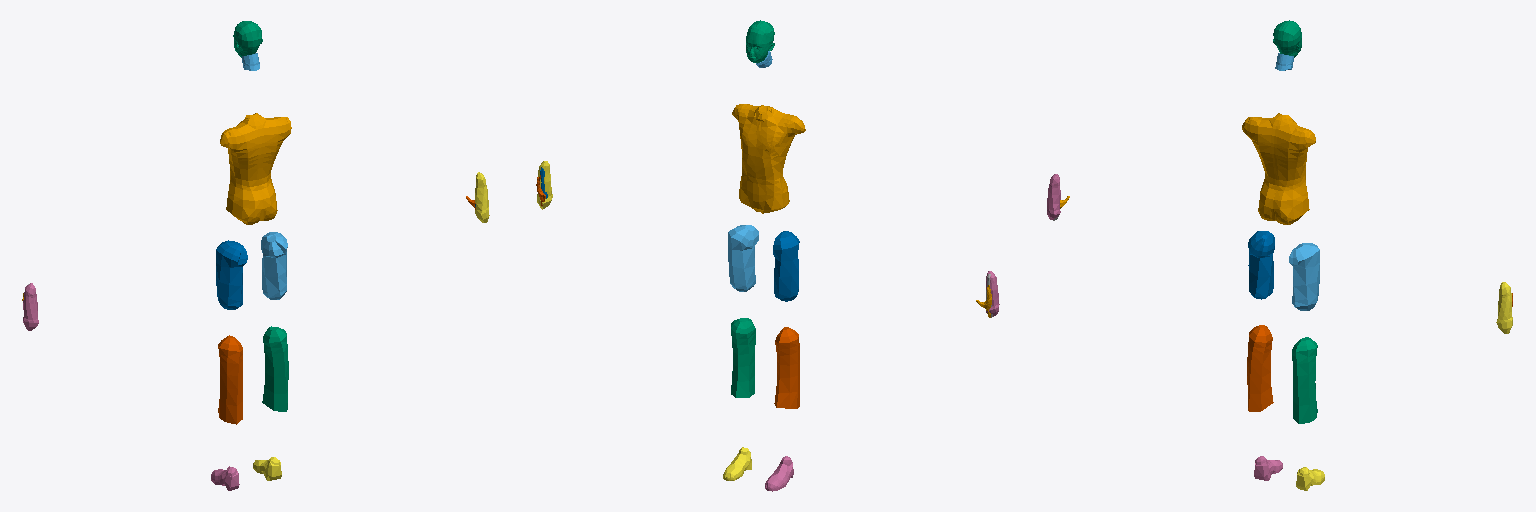
URDF robot description (Human):
<?xml version="1.0"?>
<robot name="Human">
  <!-- <^^^^^^^^^^^^> -->
  <!-- <   Links    > -->
  <!-- <vvvvvvvvvvvv> -->
  <link name="Body" >
    <visual>
      <geometry>
        <mesh filename="package://tms_ss_kinect_v2/model/male/Body.dae"/>
      </geometry>
      <!--<origin xyz="0 0 1.1" rpy="0 0 0" />-->
    </visual>
  </link>

  <link name="Neck" >
    <visual>
      <geometry>
        <mesh filename="package://tms_ss_kinect_v2/model/male/Neck.dae"/>
      </geometry>
    </visual>
  </link>

  <link name="Head" >
    <visual>
      <geometry>
        <mesh filename="package://tms_ss_kinect_v2/model/male/Head.dae"/>
      </geometry>
    </visual>
  </link>

  <link name="RightArm1" >
    <visual>
      <geometry>
        <mesh filename="package://tms_ss_kinect_v2/model/male/RightArm1.dae"/>
      </geometry>
    </visual>
  </link>

  <link name="RightArm2" >
    <visual>
      <geometry>
        <mesh filename="package://tms_ss_kinect_v2/model/male/RightArm2.dae"/>
      </geometry>
    </visual>
  </link>

  <link name="RightHand1" >
    <visual>
      <geometry>
        <mesh filename="package://tms_ss_kinect_v2/model/male/RightHand1.dae"/>
      </geometry>
    </visual>
  </link>

  <link name="LeftArm1" >
    <visual>
      <geometry>
        <mesh filename="package://tms_ss_kinect_v2/model/male/LeftArm1.dae"/>
      </geometry>
    </visual>
  </link>

  <link name="LeftArm2" >
    <visual>
      <geometry>
        <mesh filename="package://tms_ss_kinect_v2/model/male/LeftArm2.dae"/>
      </geometry>
    </visual>
  </link>

  <link name="LeftHand1" >
    <visual>
      <geometry>
        <mesh filename="package://tms_ss_kinect_v2/model/male/LeftHand1.dae"/>
      </geometry>
    </visual>
  </link>

  <link name="RightLeg1" >
    <visual>
      <geometry>
        <mesh filename="package://tms_ss_kinect_v2/model/male/RightLeg1.dae"/>
      </geometry>
    </visual>
  </link>

  <link name="RightLeg2" >
    <visual>
      <geometry>
        <mesh filename="package://tms_ss_kinect_v2/model/male/RightLeg2.dae"/>
      </geometry>
    </visual>
  </link>

  <link name="RightFoot" >
    <visual>
      <geometry>
        <mesh filename="package://tms_ss_kinect_v2/model/male/RightFoot.dae"/>
      </geometry>
    </visual>
  </link>

  <link name="LeftLeg1" >
    <visual>
      <geometry>
        <mesh filename="package://tms_ss_kinect_v2/model/male/LeftLeg1.dae"/>
      </geometry>
    </visual>
  </link>

  <link name="LeftLeg2" >
    <visual>
      <geometry>
        <mesh filename="package://tms_ss_kinect_v2/model/male/LeftLeg2.dae"/>
      </geometry>
    </visual>
  </link>

  <link name="LeftFoot" >
    <visual>
      <geometry>
        <mesh filename="package://tms_ss_kinect_v2/model/male/LeftFoot.dae"/>
      </geometry>
    </visual>
  </link>


  <!-- <^^^^^^^^^^^^^^^^^^^^^^^^^^^^^^^^^^^^^^^^> -->
  <!-- <   Virtual Links for multi DoF joints   > -->
  <!-- <vvvvvvvvvvvvvvvvvvvvvvvvvvvvvvvvvvvvvvvv> -->
  <link name="RightShoulderVirtual1"/>
  <link name="RightShoulderVirtual2"/>
  <link name="RightElbowVirtual"/>
  <link name="LeftShoulderVirtual1"/>
  <link name="LeftShoulderVirtual2"/>
  <link name="LeftElbowVirtual"/>
  <link name="RightHipVirtual1"/>
  <link name="RightHipVirtual2"/>
  <link name="RightKneeVirtual"/>
  <link name="LeftHipVirtual1"/>
  <link name="LeftHipVirtual2"/>
  <link name="LeftKneeVirtual"/>
  <link name="RightWristVirtual"/>
  <link name="LeftWristVirtual"/>
  <link name="NeckVirtual"/>


  <!-- <^^^^^^^^^^^^> -->
  <!-- <   Joints   > -->
  <!-- <vvvvvvvvvvvvv -->
  <!--
  <joint name="WAIST_JOINT1" type="continuous">
    <parent link="Neck"/>
    <child link="Head"/>
    <origin xyz="0 0 0" rpy="0 0 0"/>
    <axis xyz="0 1 0"/>
  </joint>

  <joint name="WAIST_JOINT2" type="continuous">
    <parent link="Neck"/>
    <child link="Head"/>
    <origin xyz="0 0 0" rpy="0 0 0"/>
    <axis xyz="0 1 0"/>
  </joint>
  -->

  <!-- Right Shoulder -->
  <joint name="R_ARM_JOINT1" type="continuous">
    <axis xyz="-1.0 0.0 0.0"/>
    <origin xyz="0.185 0 0.29" rpy="0 0 0" />
    <parent link="Body"/>
    <child link="RightShoulderVirtual1"/>
  </joint>

  <joint name="R_ARM_JOINT2" type="continuous">
    <axis xyz="0.0 1.0 0.0"/>
    <origin xyz="0.0 0.0 0.0" rpy="0 1.57079632679 0" />
    <parent link="RightShoulderVirtual1"/>
    <child link="RightShoulderVirtual2"/>
  </joint>

  <joint name="R_ARM_JOINT3" type="continuous">
    <axis xyz="-1.0 0.0 0.0"/>
    <!--<origin xyz="0.0 0.0 0.0" rpy="-1.57079632679 0 0" />-->
    <parent link="RightShoulderVirtual2"/>
    <child link="RightArm1"/>
  </joint>

  <!-- Right Elbow -->
  <joint name="R_ARM_JOINT4" type="continuous">
    <axis xyz="0.0 0.0 -1.0"/>
    <origin xyz="0.215 0 0" rpy="0 0 0.0" />
    <parent link="RightArm1"/>
    <child link="RightElbowVirtual"/>
  </joint>

  <joint name="R_ARM_JOINT5" type="continuous">
    <parent link="RightElbowVirtual"/>
    <child link="RightArm2"/>
  </joint>

  <!-- Right Wrist -->
  <joint name="R_ARM_JOINT6" type="continuous">
    <origin xyz="0.22 0 0" rpy="0 0 0" />
    <parent link="RightArm2"/>
    <child link="RightWristVirtual"/>
  </joint>

  <joint name="R_ARM_JOINT7" type="continuous">
    <parent link="RightWristVirtual"/>
    <child link="RightHand1"/>
  </joint>

  <!--
  <joint name="R_ARM_JOINT8" type="continuous">
    <parent link="RightWristVirtual"/>
    <child link="RightHand1"/>
  </joint>
  -->

  <!-- Left Shoulder -->
  <joint name="L_ARM_JOINT1" type="continuous">
    <axis xyz="-1.0 0.0 0.0"/>
    <origin xyz="-0.185 0 0.29" rpy="0.0 0.0 0.0" />
    <parent link="Body"/>
    <child link="LeftShoulderVirtual1"/>
  </joint>

  <joint name="L_ARM_JOINT2" type="continuous">
    <axis xyz="0.0 1.0 0.0"/>
    <origin xyz="0.0 0.0 0.0" rpy="0 4.71238898038 0" />
    <parent link="LeftShoulderVirtual1"/>
    <child link="LeftShoulderVirtual2"/>
  </joint>

  <joint name="L_ARM_JOINT3" type="continuous">
    <axis xyz="1.0 0.0 0.0"/>
    <!--<origin xyz="0.0 0.0 0.0" rpy="-1.57079632679 0 0" />-->
    <parent link="LeftShoulderVirtual2"/>
    <child link="LeftArm1"/>
  </joint>

  <!-- Left Elbow -->
  <joint name="L_ARM_JOINT4" type="continuous">
    <axis xyz="0.0 0.0 1.0"/>
    <origin xyz="-0.215 0 0" rpy="0 0 0.0" />
    <parent link="LeftArm1"/>
    <child link="LeftElbowVirtual"/>
  </joint>

  <joint name="L_ARM_JOINT5" type="continuous">
    <parent link="LeftElbowVirtual"/>
    <child link="LeftArm2"/>
  </joint>

  <!-- Left Wrist -->
  <joint name="L_ARM_JOINT6" type="continuous">
    <origin xyz="-0.22 0 0" rpy="0 0 0" />
    <parent link="LeftArm2"/>
    <child link="LeftWristVirtual"/>
  </joint>

  <joint name="L_ARM_JOINT7" type="continuous">
    <parent link="LeftWristVirtual"/>
    <child link="LeftHand1"/>
  </joint>

  <!--
  <joint name="L_ARM_JOINT8" type="continuous">
    <parent link="LeftWristVirtual"/>
    <child link="LeftHand1"/>
  </joint>
  -->

  <!-- Neck -->
  <joint name="NECK_JOINT0" type="continuous">
    <origin xyz="0 0 0.35" rpy="0 0 0" />
    <parent link="Body"/>
    <child link="Neck"/>
  </joint>

  <joint name="NECK_JOINT1" type="continuous">
    <origin xyz="0 0.04 0.03" rpy="0 0 0" />
    <parent link="Neck"/>
    <child link="NeckVirtual"/>
  </joint>

  <joint name="NECK_JOINT2" type="continuous">
    <parent link="NeckVirtual"/>
    <child link="Head"/>
  </joint>

  <!-- Right Hip -->
  <joint name="R_LEG_JOINT1" type="continuous">
    <axis xyz="-1.0 0.0 0.0"/>
    <origin xyz="0.072 0 -0.25" rpy="0 0 0" />
    <parent link="Body"/>
    <child link="RightHipVirtual1"/>
  </joint>

  <joint name="R_LEG_JOINT2" type="continuous">
    <axis xyz="0.0 1.0 0.0"/>
    <parent link="RightHipVirtual1"/>
    <child link="RightHipVirtual2"/>
  </joint>

  <joint name="R_LEG_JOINT3" type="continuous">
    <axis xyz="0.0 0.0 1.0"/>
    <parent link="RightHipVirtual2"/>
    <child link="RightLeg1"/>
  </joint>

  <!-- Right Knee -->
  <joint name="R_LEG_JOINT4" type="continuous">
    <axis xyz="-1.0 0.0 0.0"/>
    <origin xyz="0.0 0 -0.3" rpy="0 0 0" />
    <parent link="RightLeg1"/>
    <child link="RightKneeVirtual"/>
  </joint>

  <joint name="R_LEG_JOINT5" type="continuous">
    <parent link="RightKneeVirtual"/>
    <child link="RightLeg2"/>
  </joint>

  <!-- Right Ankle -->
  <joint name="R_LEG_JOINT6" type="continuous">
    <origin xyz="0.0 0 -0.42" rpy="0 0 0" />
    <parent link="RightLeg2"/>
    <child link="RightFoot"/>
  </joint>

  <!-- Left Hip -->
  <joint name="L_LEG_JOINT1" type="continuous">
    <axis xyz="-1.0 0.0 0.0"/>
    <origin xyz="-0.072 0 -0.25" rpy="0 0 0" />
    <parent link="Body"/>
    <child link="LeftHipVirtual1"/>
  </joint>

  <joint name="L_LEG_JOINT2" type="continuous">
    <axis xyz="0.0 1.0 0.0"/>
    <parent link="LeftHipVirtual1"/>
    <child link="LeftHipVirtual2"/>
  </joint>

  <joint name="L_LEG_JOINT3" type="continuous">
    <axis xyz="0.0 0.0 1.0"/>
    <parent link="LeftHipVirtual2"/>
    <child link="LeftLeg1"/>
  </joint>

  <!-- Left Knee -->
  <joint name="L_LEG_JOINT4" type="continuous">
    <axis xyz="0.0 0.0 -1.0"/>
    <origin xyz="0.0 0 -0.3" rpy="0 0 0" />
    <parent link="LeftLeg1"/>
    <child link="LeftKneeVirtual"/>
  </joint>

  <joint name="L_LEG_JOINT5" type="continuous">
    <parent link="LeftKneeVirtual"/>
    <child link="LeftLeg2"/>
  </joint>

  <!-- Left Ankle -->
  <joint name="L_LEG_JOINT6" type="continuous">
    <origin xyz="0.0 0 -0.42" rpy="0 0 0" />
    <parent link="LeftLeg2"/>
    <child link="LeftFoot"/>
  </joint>


</robot>

--- Facts derived from the render (not from the file) ---
Views: 3 orthographic renders of the robot side by side, from view 1: azimuth 30°, elevation 25°; view 2: azimuth 150°, elevation 25°; view 3: azimuth 330°, elevation 25°.
Model Human with 30 links and 29 joints (29 continuous), rooted at Body, posed all joints at 0.
Links seen in each view (by area): view 1: Body, LeftLeg2, RightLeg2, LeftLeg1, RightLeg1, Head, LeftArm1, RightArm1; view 2: Body, LeftLeg2, RightLeg2, RightLeg1, LeftLeg1, Head, LeftFoot, RightFoot; view 3: Body, LeftLeg2, RightLeg2, RightLeg1, LeftLeg1, Head, RightArm1.
Link boxes in pixels (x1=…): Body: x1=220, y1=113, x2=291, y2=224; LeftLeg2: x1=218, y1=335, x2=242, y2=424; RightLeg2: x1=262, y1=326, x2=288, y2=411; LeftLeg1: x1=216, y1=240, x2=247, y2=309; RightLeg1: x1=261, y1=232, x2=287, y2=299; Head: x1=233, y1=21, x2=262, y2=57; LeftArm1: x1=23, y1=283, x2=38, y2=330; RightArm1: x1=475, y1=172, x2=489, y2=222; Body: x1=732, y1=104, x2=805, y2=213; LeftLeg2: x1=774, y1=327, x2=799, y2=408; RightLeg2: x1=731, y1=318, x2=755, y2=397; RightLeg1: x1=728, y1=225, x2=758, y2=291; LeftLeg1: x1=773, y1=231, x2=799, y2=301; Head: x1=746, y1=20, x2=774, y2=62; LeftFoot: x1=765, y1=456, x2=793, y2=491; RightFoot: x1=723, y1=447, x2=751, y2=480; Body: x1=1242, y1=113, x2=1315, y2=224; LeftLeg2: x1=1247, y1=325, x2=1273, y2=411; RightLeg2: x1=1292, y1=337, x2=1317, y2=423; RightLeg1: x1=1289, y1=243, x2=1319, y2=310; LeftLeg1: x1=1248, y1=231, x2=1274, y2=299; Head: x1=1273, y1=20, x2=1301, y2=57; RightArm1: x1=1496, y1=282, x2=1512, y2=333.
Size in the robot's own frame: 3.25 by 0.3411 by 3.06 metres.
15 mesh visuals loaded from 15 distinct referenced files (15 Collada DAE).